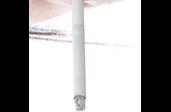Cigarette: (71, 0, 86, 109)
